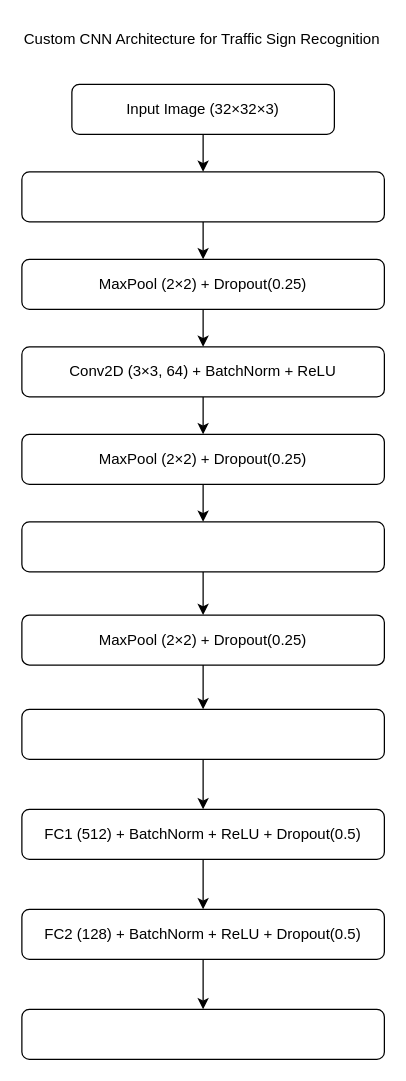
This 406x1081 diagram has some shape labels left out. The centre of each missing label's shape, as x and y in pixels:
Conv2D ( 3 × 3 , 32 ) + BatchNorm + ReLU: the point at 202,196
Conv2D (3×3, 128) + BatchNorm + ReLU: the point at 202,546
Flatten: the point at 202,733
Output: 43-way Softmax: the point at 202,1033
